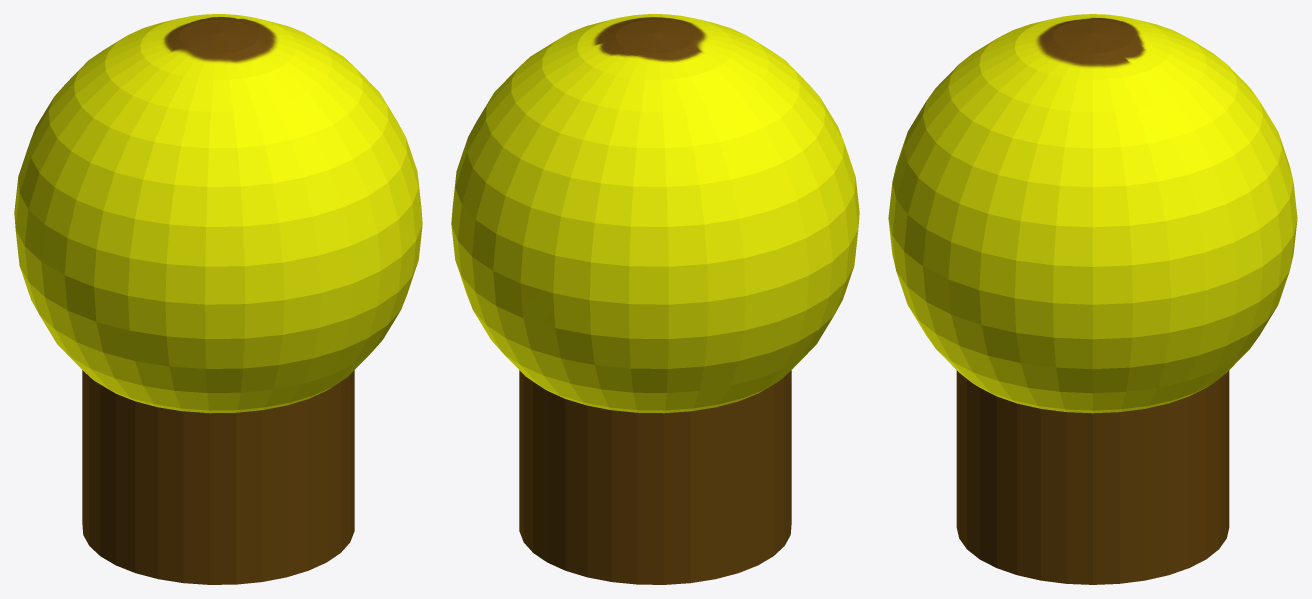
File: light_bulb.obj
3 renders of one model, left to right at view 1: azimuth 30°, elevation 25°; view 2: azimuth 150°, elevation 25°; view 3: azimuth 270°, elevation 25°, orthographic.
Parts seen in each view (by area): view 1: Sphere, Circle; view 2: Sphere, Circle; view 3: Sphere, Circle.
Part boxes in pixels (box(x1,y1,x2,y2)): Sphere: box(14, 14, 422, 413); Circle: box(82, 370, 354, 584); Sphere: box(451, 14, 859, 413); Circle: box(519, 370, 791, 584); Sphere: box(888, 14, 1297, 413); Circle: box(956, 370, 1229, 584).
Size of the model in its own units: 0.3 by 0.4 by 0.3.
2 materials, 2 textured.
